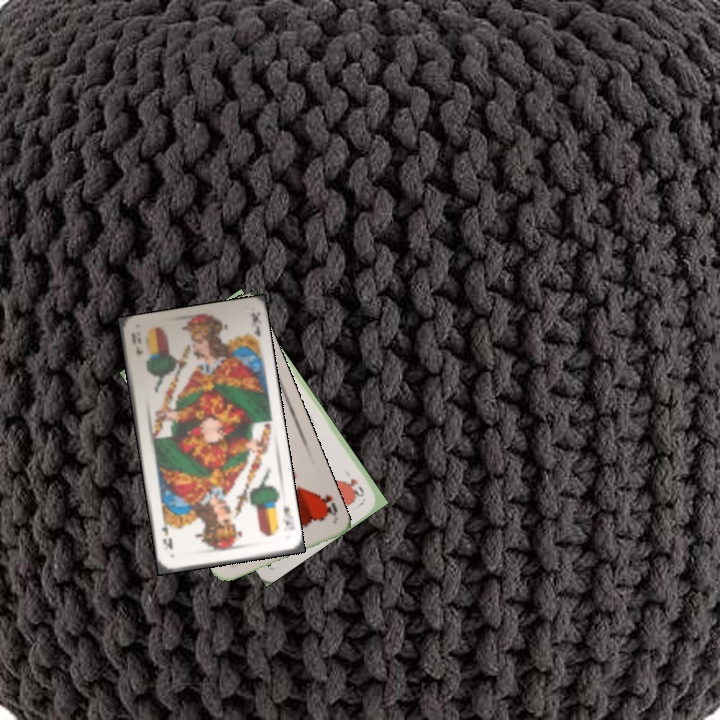EK: (280, 501, 297, 533), (127, 330, 145, 357)
HO: (314, 489, 340, 518), (346, 474, 367, 500)
